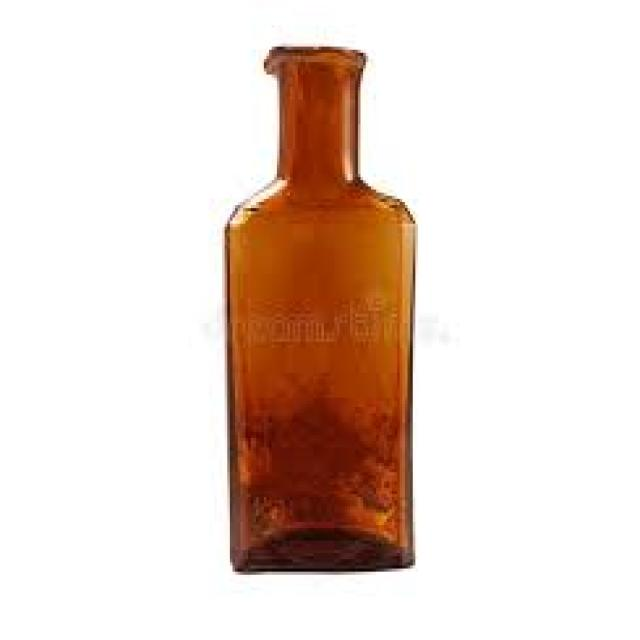glass: (220, 41, 416, 569)
